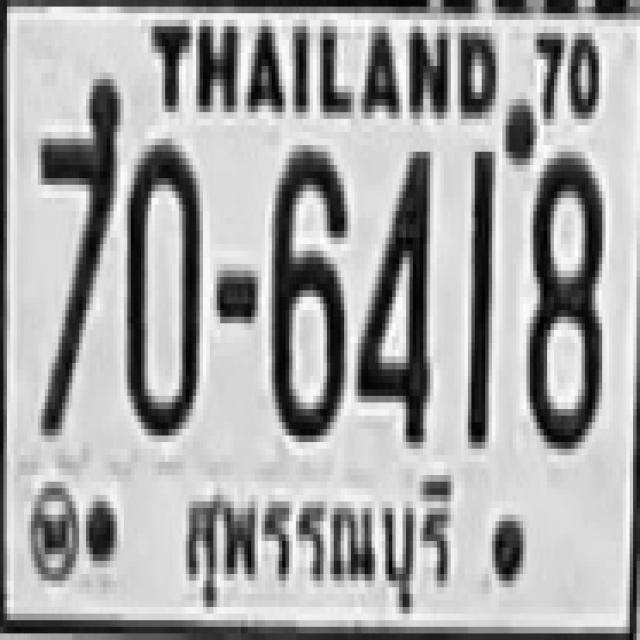0: (124, 138, 196, 429)
1: (465, 145, 492, 442)
4: (354, 145, 427, 442)
6: (268, 145, 344, 436)
7: (38, 76, 117, 432)
8: (526, 145, 599, 442)
SuphanBuri: (177, 448, 462, 633)
